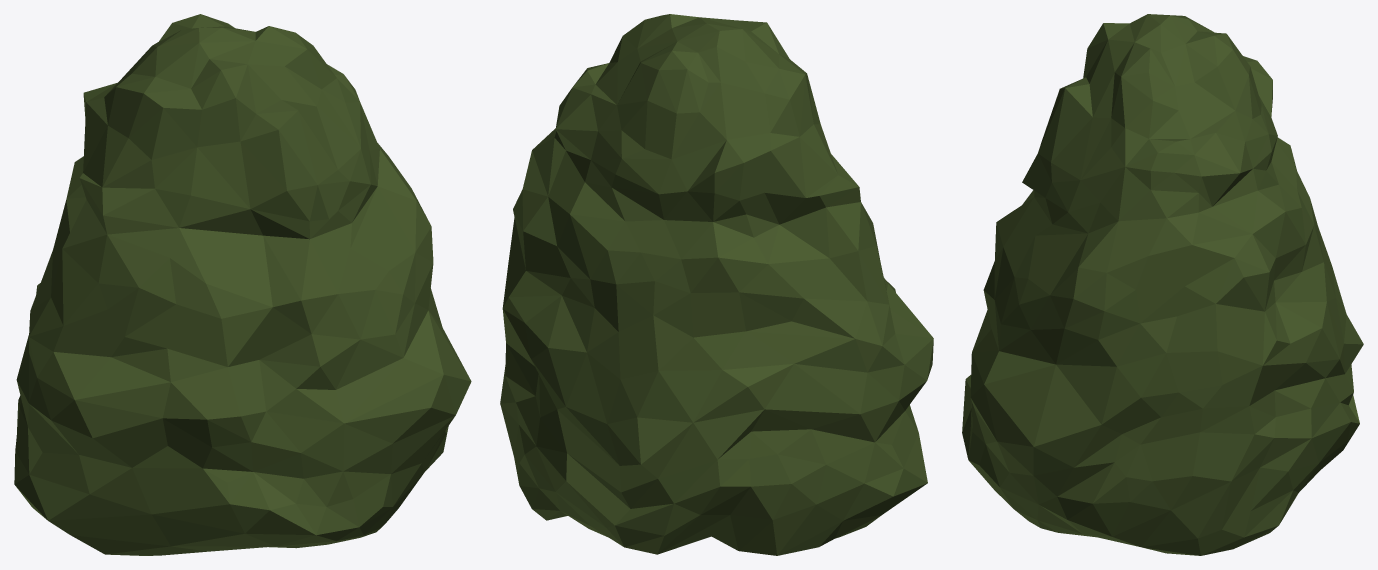
File: delh_foli_01.fbx
3 views of the same model, side by side, from view 1: azimuth 30°, elevation 25°; view 2: azimuth 150°, elevation 25°; view 3: azimuth 270°, elevation 25° (orthographic). The views are drawn at different scales.
Parts seen in each view (by area): view 1: delh_foli_01; view 2: delh_foli_01; view 3: delh_foli_01.
Part boxes in pixels (x1,y1,x2,y2): delh_foli_01: (14, 14, 471, 555); delh_foli_01: (500, 14, 933, 555); delh_foli_01: (962, 14, 1363, 555).
Size of the model in its own units: 80.91 by 96.11 by 74.81.
